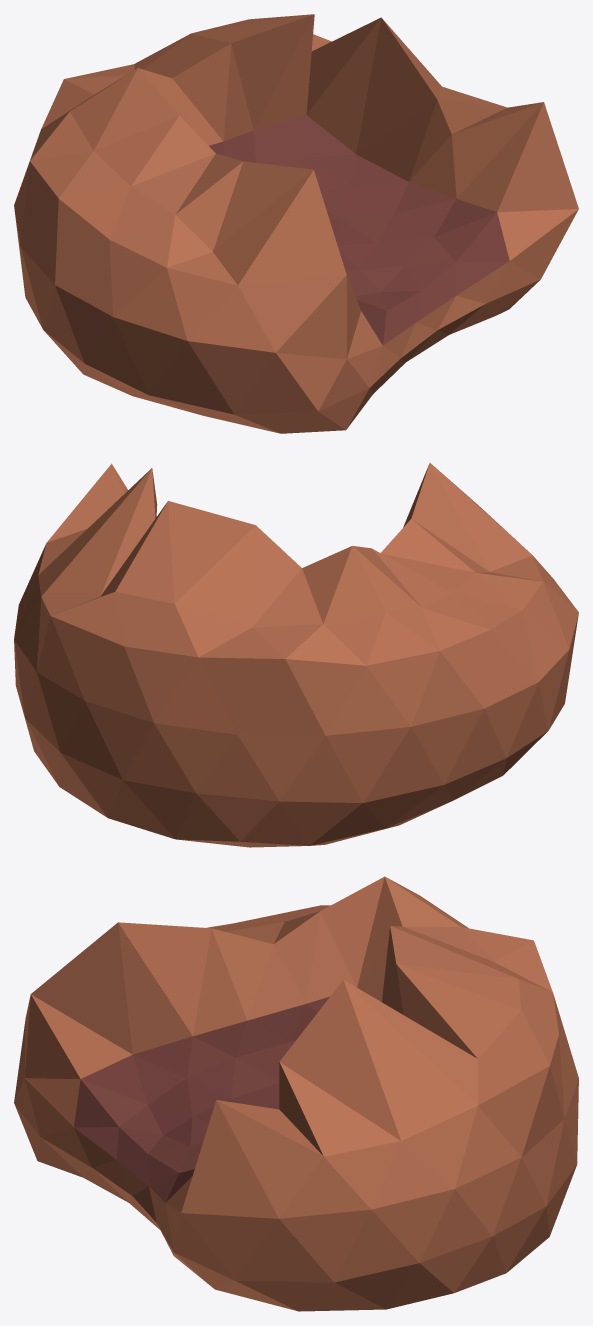
File: DigSpot.fbx
The picture shows the model from 3 angles, top to bottom: view 1: azimuth 30°, elevation 25°; view 2: azimuth 150°, elevation 25°; view 3: azimuth 270°, elevation 25°; orthographic projection. The views are drawn at different scales.
Visible parts, largest first — view 1: DigSpot; view 2: DigSpot; view 3: DigSpot.
Boxes of the visible parts, bbox=[...] form: DigSpot: bbox=[14, 14, 578, 433]; DigSpot: bbox=[14, 462, 578, 847]; DigSpot: bbox=[14, 876, 578, 1311].
Size of the model in its own units: 82.17 by 50.41 by 77.62.
